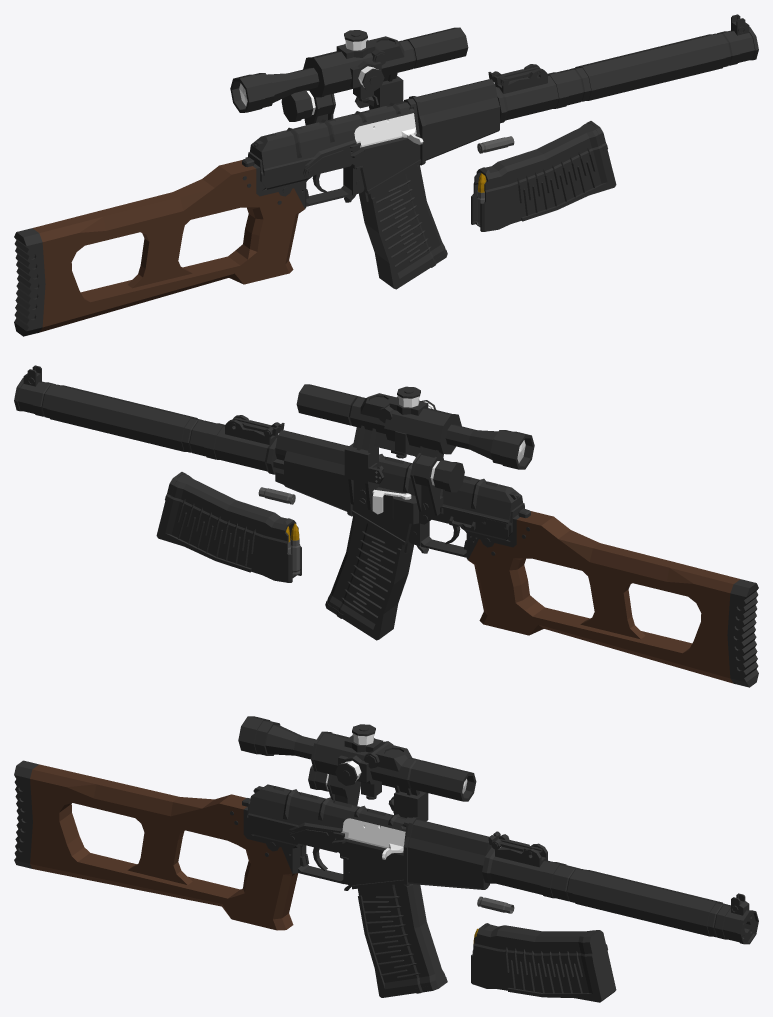
The model's file is vss_vintorez.glb.
3 views of the same model, one above another, from view 1: azimuth 30°, elevation 25°; view 2: azimuth 150°, elevation 25°; view 3: azimuth 330°, elevation 25° (orthographic).
Visible parts, largest first — view 1: gun_4, pso-1_3, 939 mag_2, 939 mag empty_1, bolt_5, save_8; view 2: gun_4, pso-1_3, 939 mag_2, 939 mag empty_1; view 3: gun_4, pso-1_3, 939 mag_2, 939 mag empty_1, bolt_5, save_8.
Part boxes in pixels (bbox=[...]): gun_4: bbox=[14, 14, 758, 336]; pso-1_3: bbox=[230, 27, 468, 125]; 939 mag_2: bbox=[471, 121, 616, 231]; 939 mag empty_1: bbox=[359, 164, 447, 289]; bolt_5: bbox=[354, 113, 423, 147]; save_8: bbox=[303, 142, 364, 178]; gun_4: bbox=[14, 365, 758, 687]; pso-1_3: bbox=[296, 384, 534, 524]; 939 mag_2: bbox=[156, 472, 301, 582]; 939 mag empty_1: bbox=[325, 515, 413, 640]; gun_4: bbox=[14, 760, 758, 944]; pso-1_3: bbox=[238, 716, 476, 821]; 939 mag_2: bbox=[471, 923, 616, 1002]; 939 mag empty_1: bbox=[358, 883, 447, 997]; bolt_5: bbox=[341, 818, 405, 859]; save_8: bbox=[287, 828, 346, 844].
Size of the model in its own units: 8.84 by 2.94 by 0.8679.
